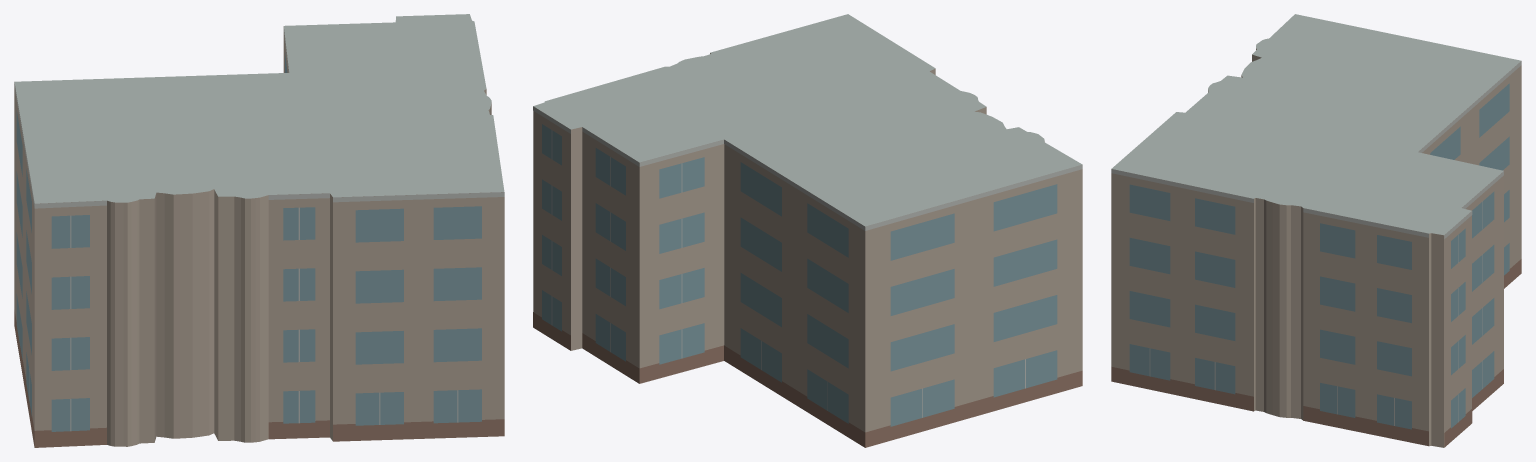
The model's file is survey-upis-32937122.glb.
The picture shows the model from 3 angles, left to right: view 1: azimuth 30°, elevation 25°; view 2: azimuth 150°, elevation 25°; view 3: azimuth 270°, elevation 25°; orthographic projection. The views are drawn at different scales.
Parts seen in each view (by area): view 1: survey-upis-32937122.tmp; view 2: survey-upis-32937122.tmp; view 3: survey-upis-32937122.tmp.
Boxes of the visible parts, x1,y1,x2,y2 form: survey-upis-32937122.tmp: (14, 14, 504, 447); survey-upis-32937122.tmp: (533, 14, 1082, 447); survey-upis-32937122.tmp: (1111, 14, 1521, 447).
Size of the model in its own units: 27.01 by 12.1 by 21.17.
